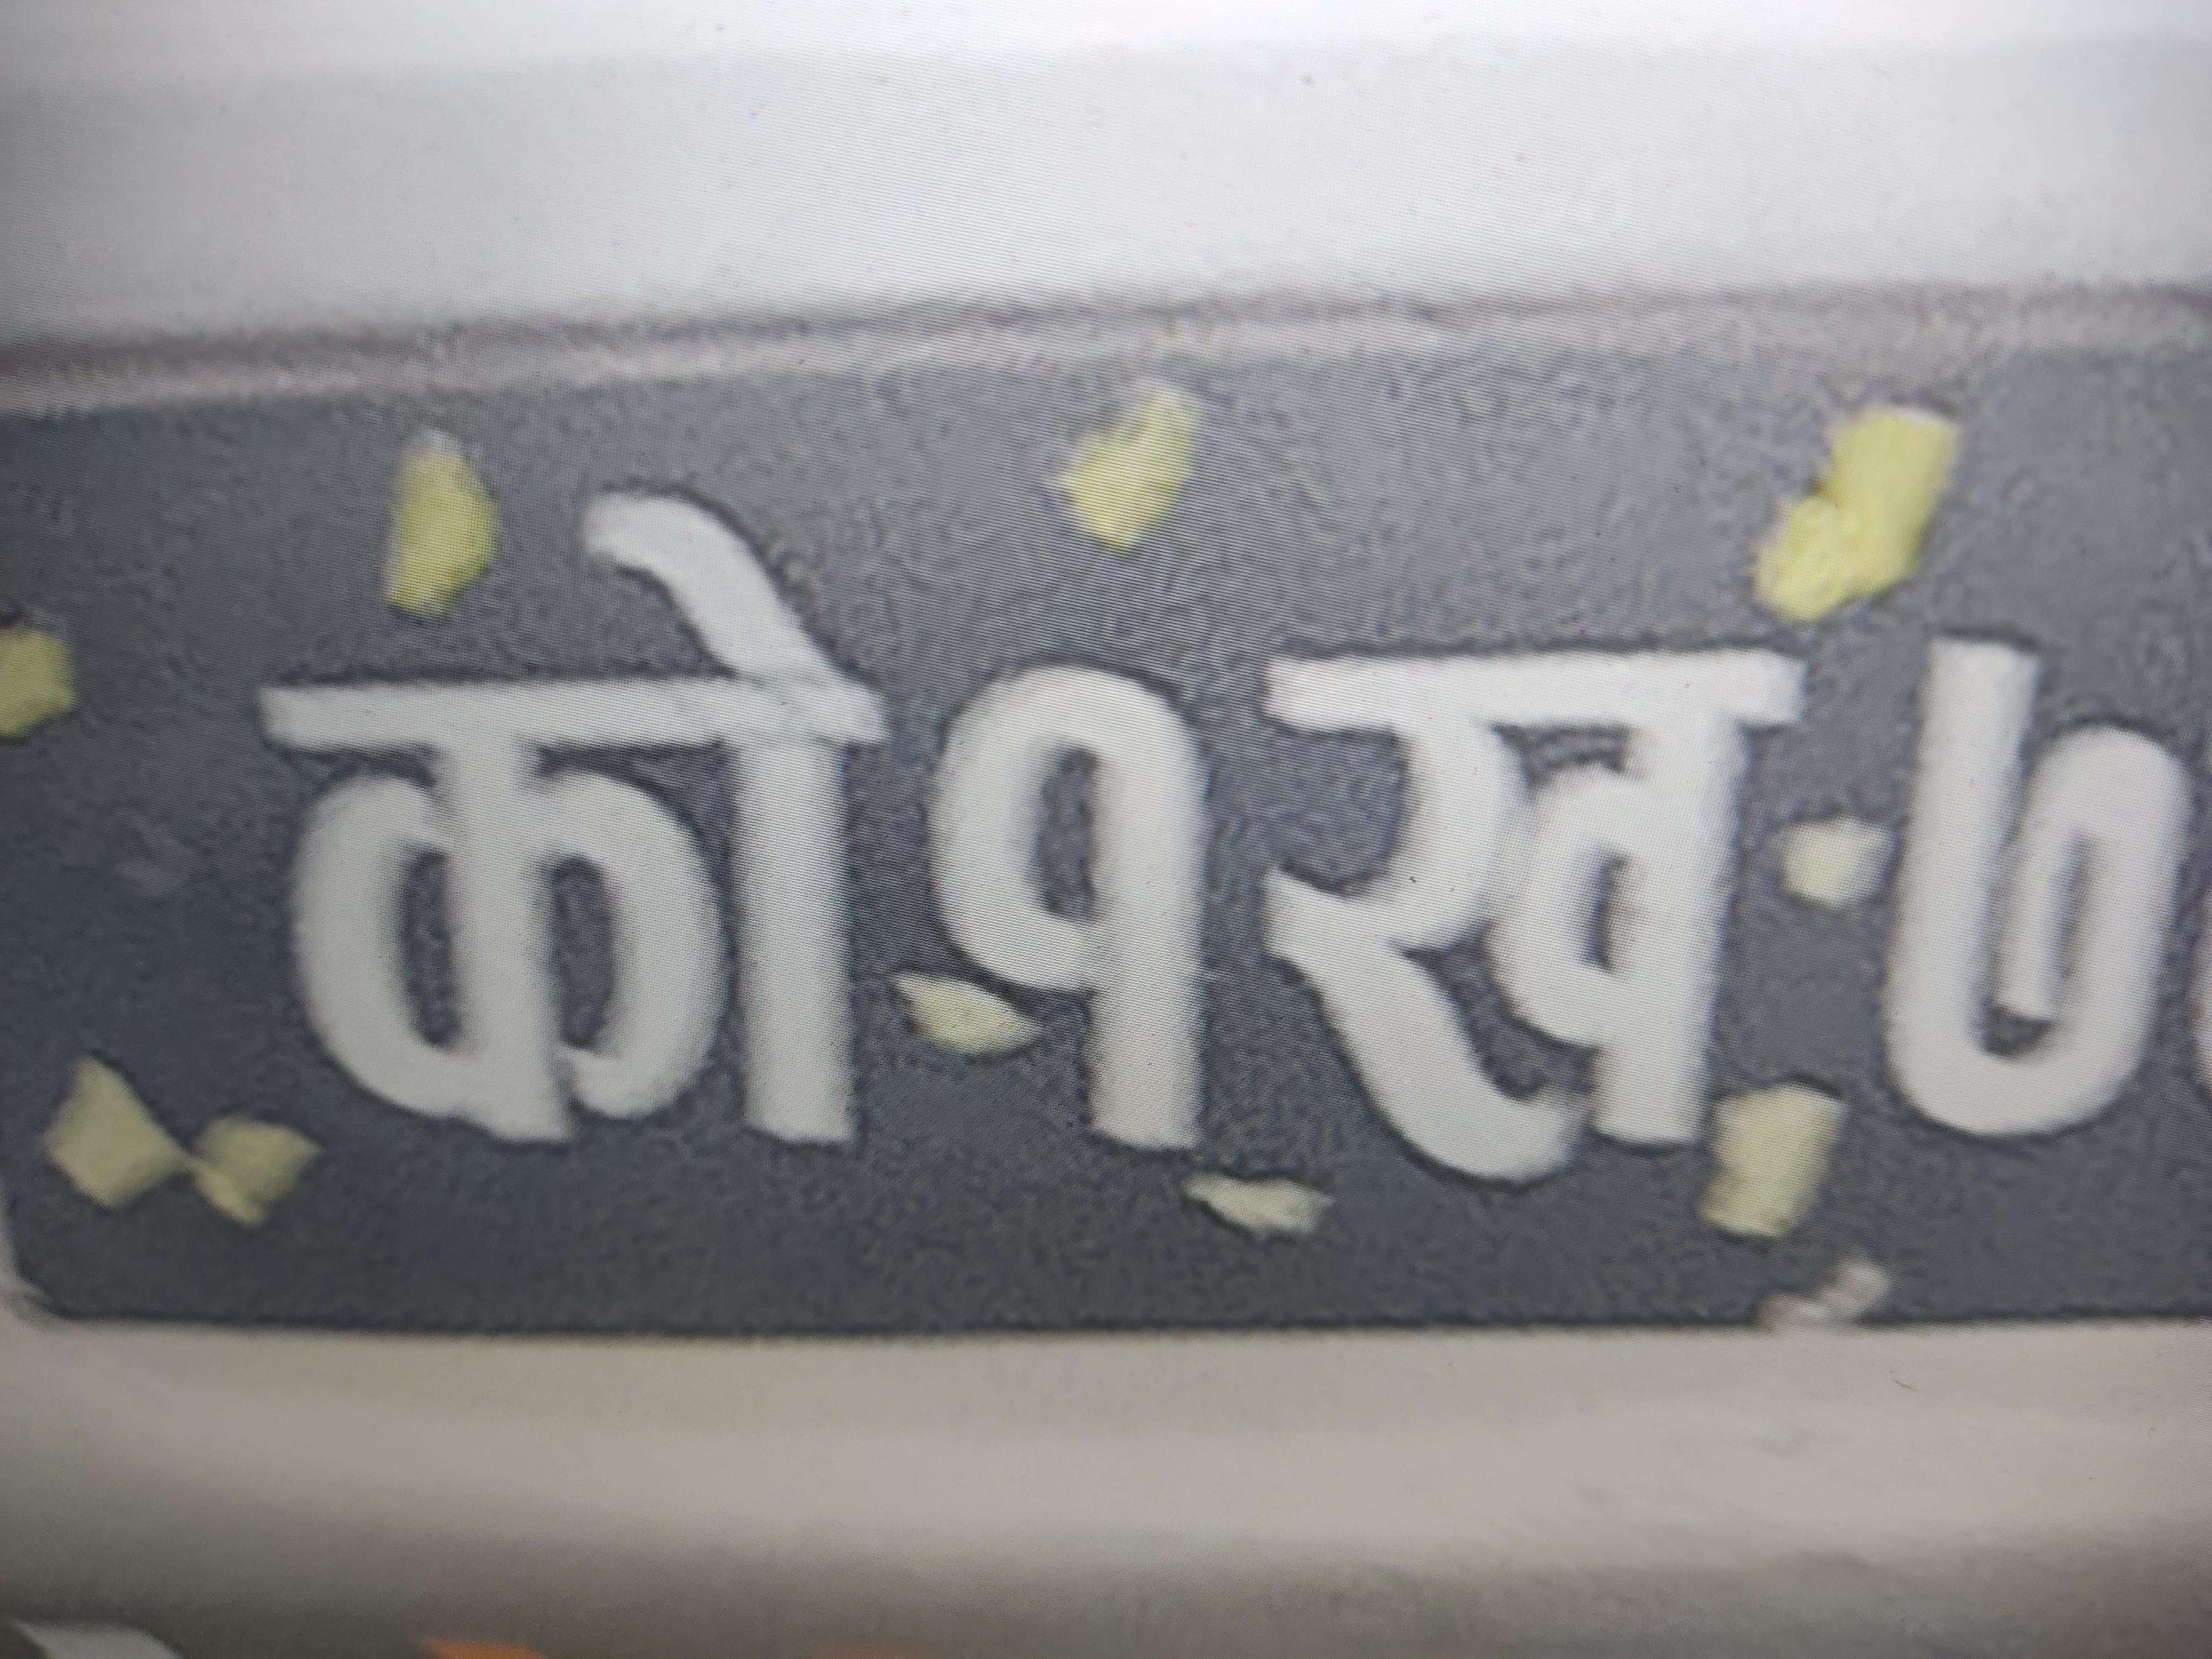1: (905, 628, 1237, 1149)
7: (1870, 592, 2184, 1161)
kha: (1259, 587, 1788, 1219)
ko: (175, 482, 899, 1215)
